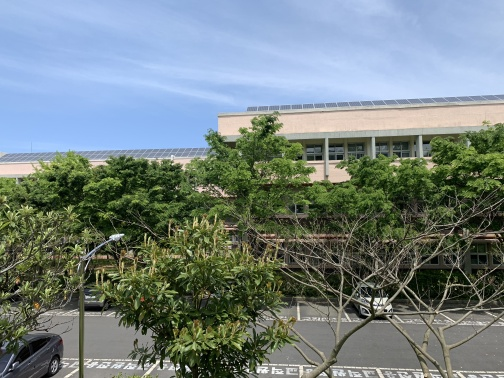College Of Education: (5, 97, 504, 319)
